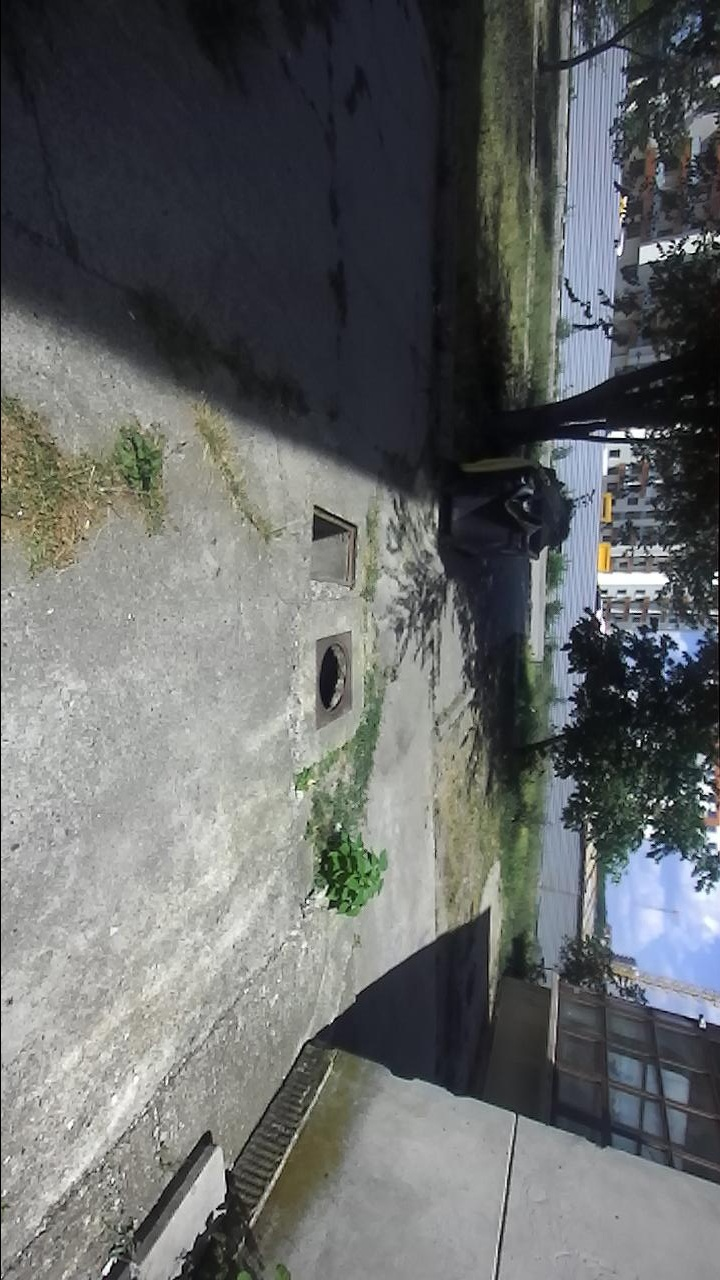drain: (309, 503, 359, 589), (317, 638, 350, 716)
